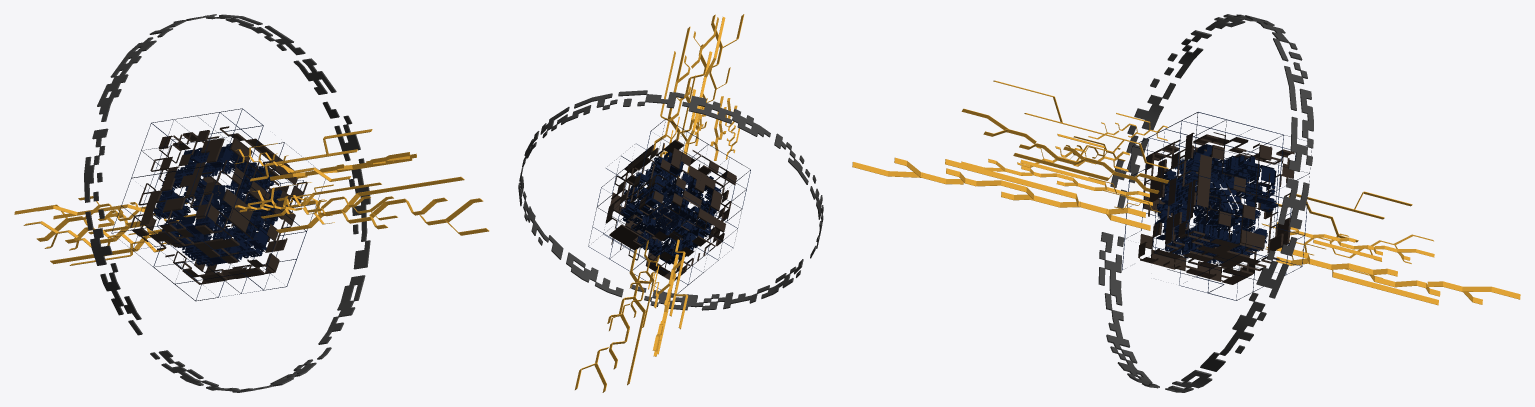
The model's file is sci-fi.glb.
3 renders of one model, left to right at view 1: azimuth 30°, elevation 25°; view 2: azimuth 150°, elevation 25°; view 3: azimuth 270°, elevation 25°, orthographic. The views are drawn at different scales.
Parts seen in each view (by area): view 1: Cube, Circle, Cube.001, circuit 1.002, circuit 1.005, circuit 1, circuit 1.001, circuit 2, circuit 2.002, circuit 1.003, circuit 1.004, circuit 1.008; view 2: Cube, Circle, Cube.001, circuit 1.005, circuit 1.002, circuit 1, circuit 2, circuit 2.002, circuit 1.004, circuit 1.003, circuit 1.001, circuit 1.008; view 3: Cube, Circle, circuit 1.002, Cube.001, circuit 1.005, circuit 1, circuit 1.001, circuit 1.004, circuit 2, circuit 2.002.
Part boxes in pixels (box(x1,y1,x2,y2)): Cube: box(130, 126, 307, 284); Circle: box(84, 14, 370, 392); Cube.001: box(111, 108, 325, 301); circuit 1.002: box(276, 176, 489, 235); circuit 1.005: box(34, 204, 195, 264); circuit 1: box(270, 152, 416, 180); circuit 1.001: box(261, 182, 397, 220); circuit 2: box(250, 129, 372, 181); circuit 2.002: box(14, 204, 157, 227); circuit 1.003: box(23, 221, 164, 265); circuit 1.004: box(78, 196, 187, 234); circuit 1.008: box(249, 182, 334, 224); Cube: box(605, 139, 736, 280); Circle: box(518, 90, 823, 310); Cube.001: box(588, 119, 750, 296); circuit 1.005: box(575, 249, 653, 392); circuit 1.002: box(659, 14, 744, 177); circuit 1: box(653, 17, 718, 156); circuit 2: box(683, 17, 725, 153); circuit 2.002: box(654, 239, 687, 329); circuit 1.004: box(609, 240, 659, 332); circuit 1.003: box(652, 254, 678, 356); circuit 1.001: box(681, 67, 730, 172); circuit 1.008: box(710, 96, 737, 160); Cube: box(1138, 132, 1294, 284); Circle: box(1098, 14, 1313, 392); circuit 1.002: box(852, 157, 1150, 230); Cube.001: box(1122, 112, 1311, 300); circuit 1.005: box(1276, 247, 1520, 305); circuit 1: box(961, 108, 1168, 193); circuit 1.001: box(961, 159, 1152, 205); circuit 1.004: box(1277, 222, 1434, 260); circuit 2: box(993, 80, 1168, 168); circuit 2.002: box(1276, 191, 1412, 242).
Size of the model in its own units: 9.71 by 9.4 by 17.4.
